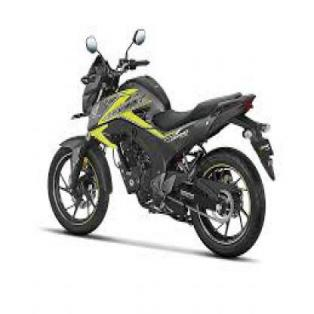Motocicleta: (48, 23, 278, 259)
